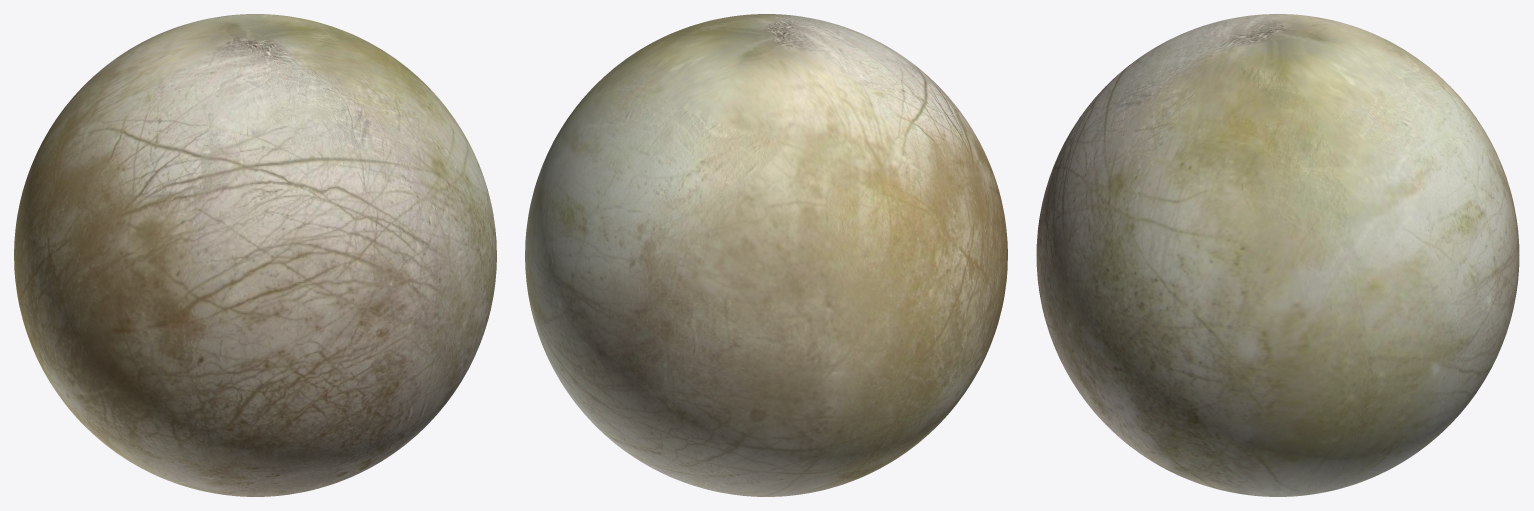
Rendered from europa.obj.
The picture shows the model from 3 angles, left to right: view 1: azimuth 30°, elevation 25°; view 2: azimuth 150°, elevation 25°; view 3: azimuth 270°, elevation 25°; orthographic projection.
Visible parts, largest first — view 1: earth_Sphere; view 2: earth_Sphere; view 3: earth_Sphere.
Boxes of the visible parts, x1=… form: earth_Sphere: x1=14, y1=14, x2=496, y2=496; earth_Sphere: x1=525, y1=14, x2=1007, y2=496; earth_Sphere: x1=1036, y1=14, x2=1519, y2=496.
Size of the model in its own units: 2 by 2 by 2.
1 material, 1 textured.
